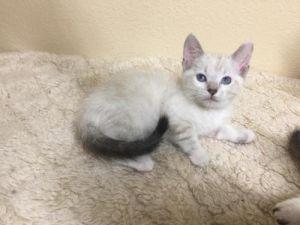siamese: (176, 29, 262, 118)
